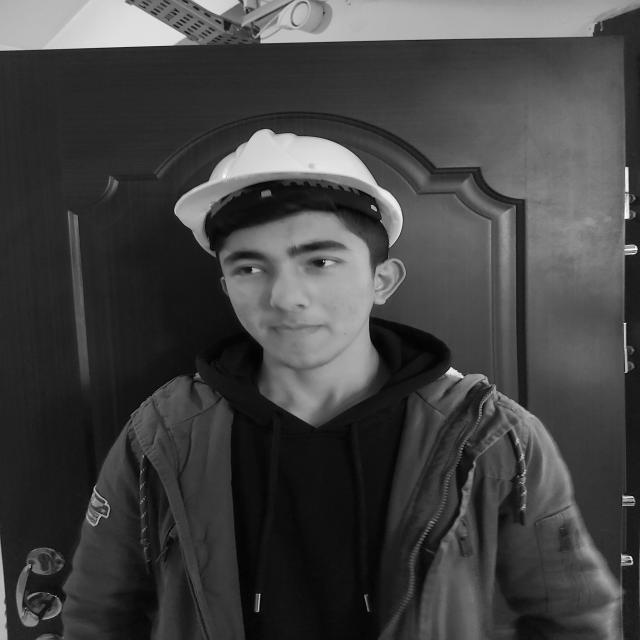safety_helmet: (173, 133, 405, 260)
